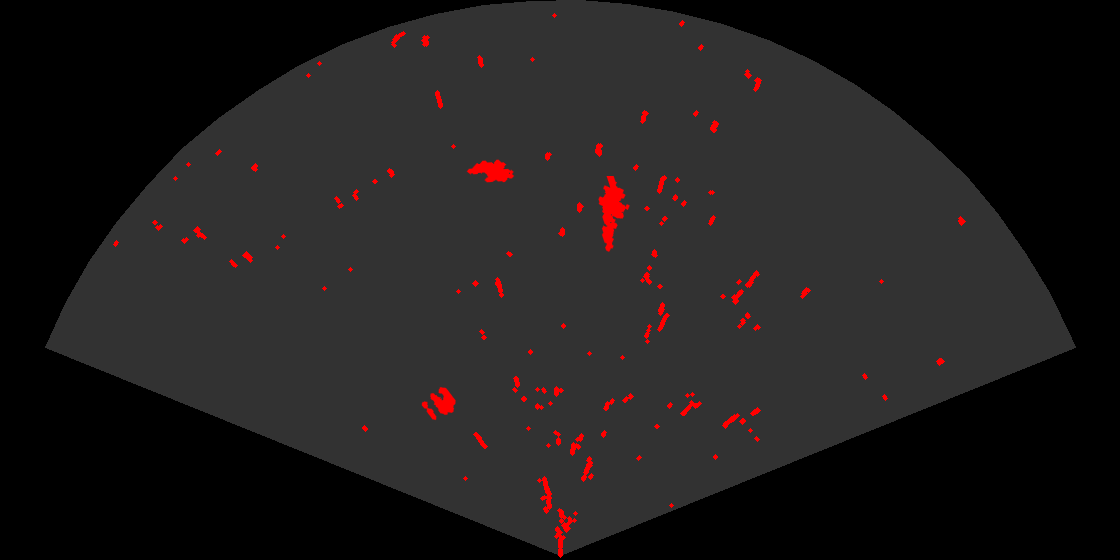AUV: (465, 158, 516, 184)
ball: (420, 385, 457, 422)
frogman: (597, 176, 631, 254)
